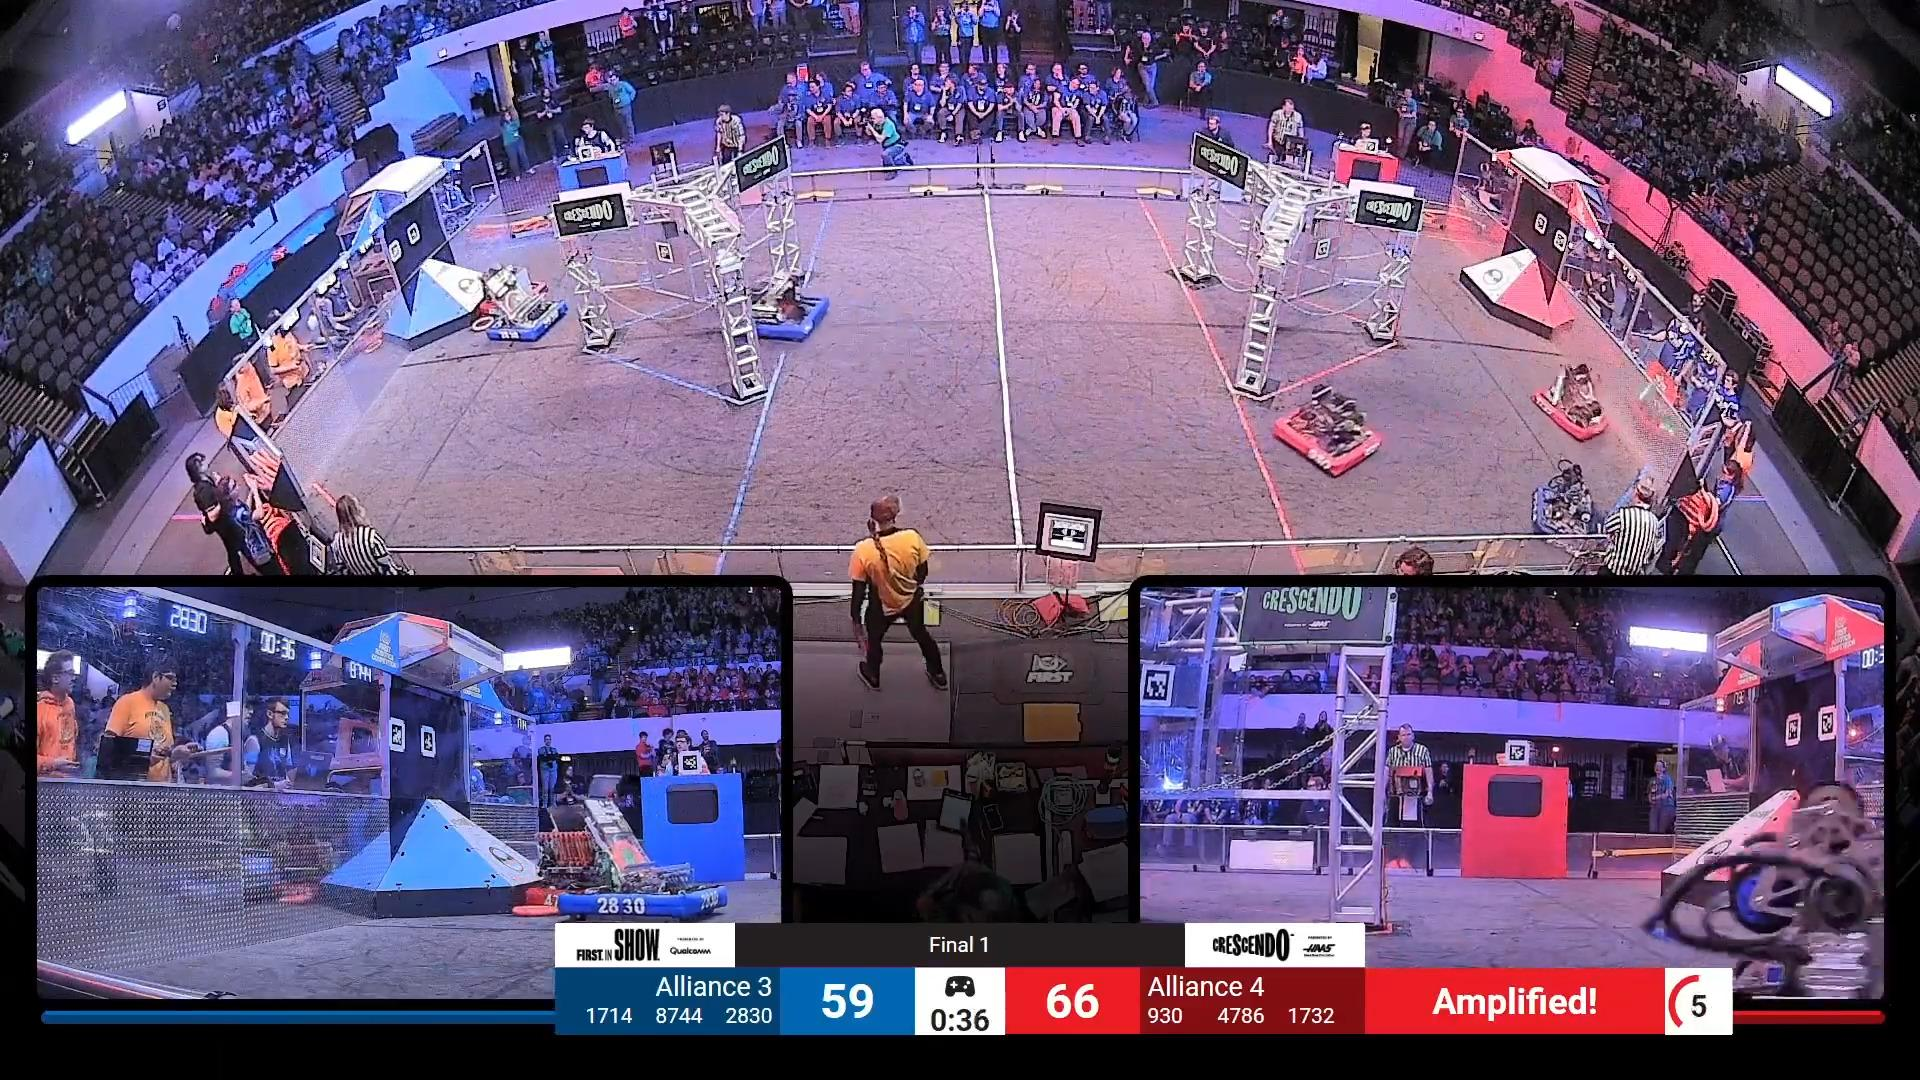robot: (564, 775, 733, 919), (520, 762, 649, 909), (1275, 381, 1383, 480), (1534, 361, 1609, 444), (740, 276, 833, 340), (1532, 464, 1604, 546), (483, 274, 562, 345)
